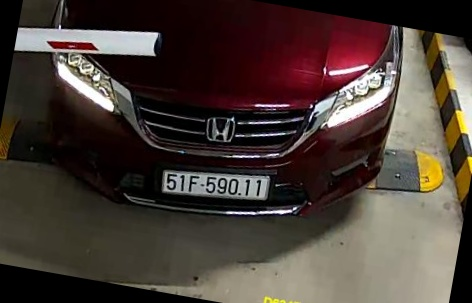plate: (159, 161, 269, 206)
